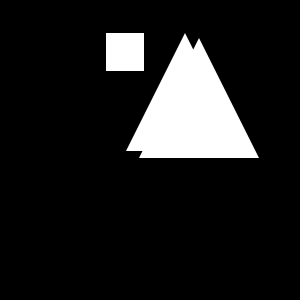circle: (106, 33, 144, 71)
triangle: (139, 38, 259, 158), (126, 33, 244, 151)
